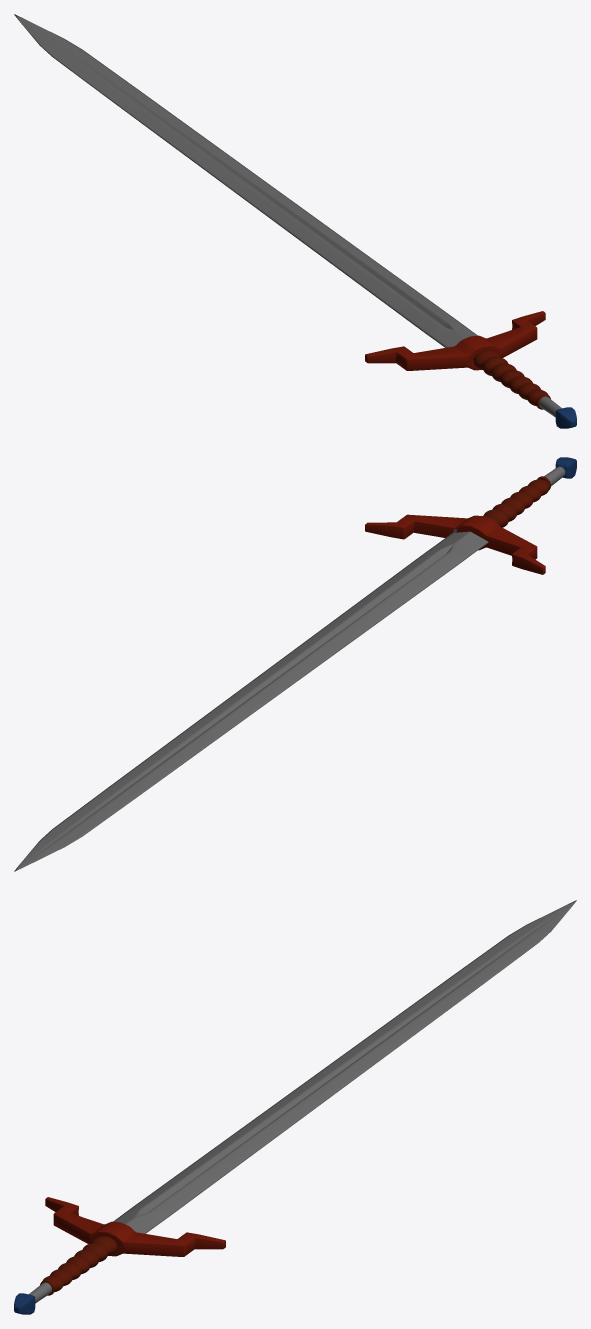
Rendered from duale_blade.fbx.
3 renders of one model, top to bottom at view 1: azimuth 30°, elevation 25°; view 2: azimuth 150°, elevation 25°; view 3: azimuth 330°, elevation 25°, orthographic.
Parts seen in each view (by area): view 1: Torus; view 2: Torus; view 3: Torus.
Boxes of the visible parts, left/top/right/bottom form: Torus: left=14, top=14, right=576, bottom=428; Torus: left=14, top=457, right=576, bottom=871; Torus: left=14, top=900, right=576, bottom=1314.
Bounding box in the file's own units: 1543 × 200 × 8384.
